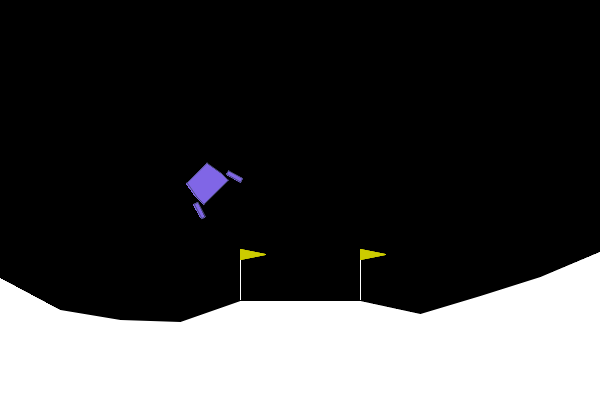lander: (174, 151, 245, 222)
